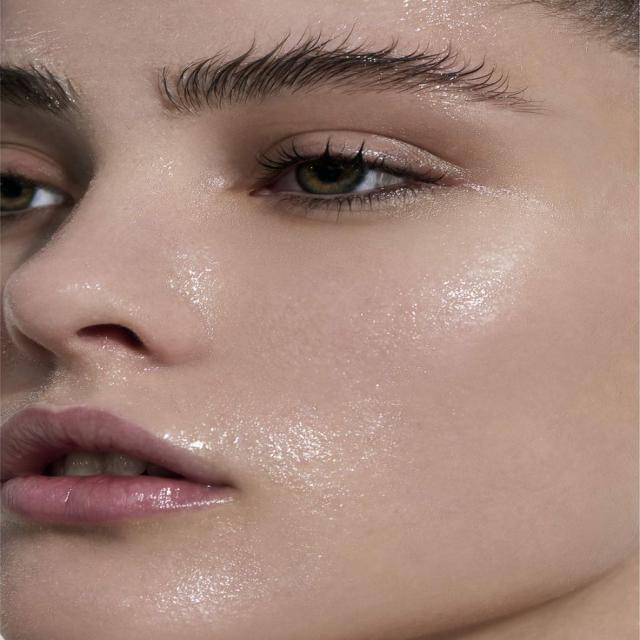Oily-Skin: (163, 419, 354, 488), (458, 250, 570, 332), (398, 10, 506, 49), (185, 264, 280, 299)
